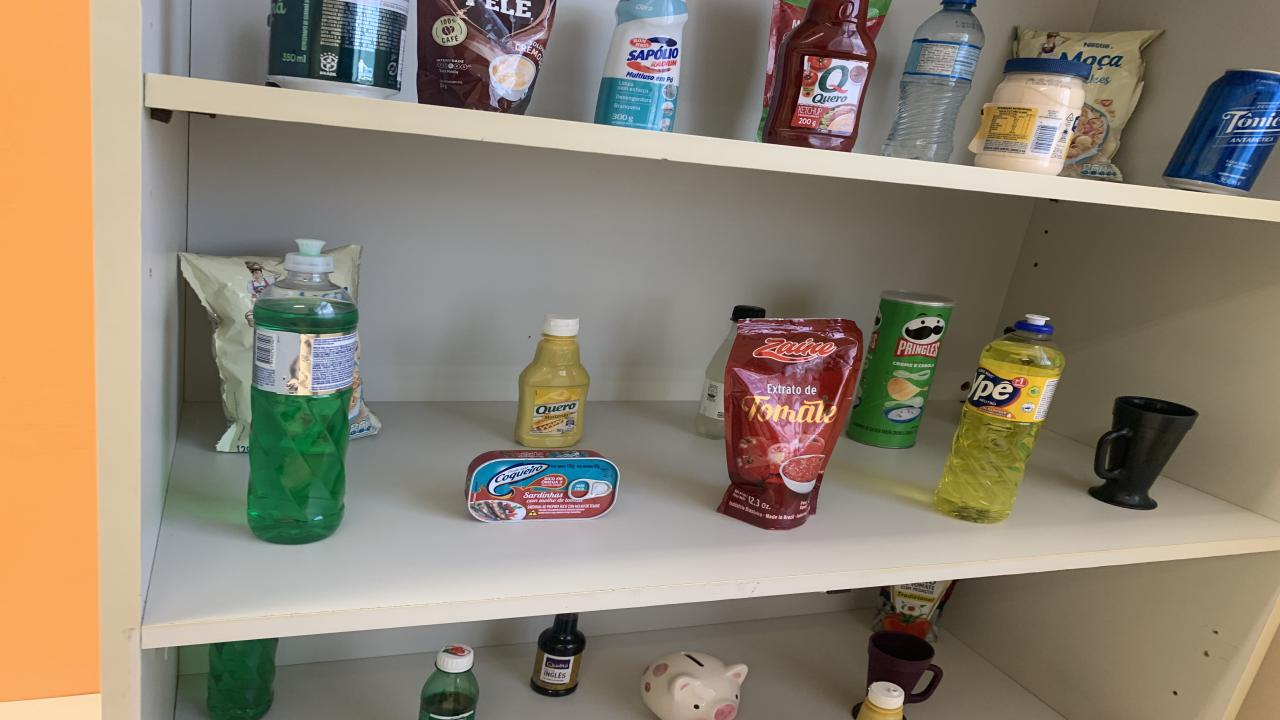Cleaner-Cleanup_Items: (595, 0, 688, 131)
Coffee-Pantry_Items: (418, 0, 555, 114)
Detergent-Cleanup_Items: (248, 238, 358, 544), (935, 321, 1065, 523), (208, 638, 278, 720)
English_Sauce-Pantry_Items: (530, 613, 585, 698)
Flakes-Snacks: (1015, 28, 1162, 182), (178, 253, 285, 452), (325, 246, 362, 300), (350, 377, 380, 439)
Guarana-Drinks: (418, 645, 480, 720)
Guarana_Can-Drinks: (268, 0, 410, 98)
Ketchup-Pantry_Items: (248, 270, 358, 544), (762, 0, 878, 152)
Mayonnaise-Pantry_Items: (970, 56, 1092, 174)
Mustard-Pantry_Items: (515, 315, 590, 448), (855, 682, 905, 720)
Pig_Safe-Miscellaneous: (640, 651, 748, 720)
Pringles-Snacks: (848, 291, 955, 448)
Soda-Drinks: (695, 306, 765, 439)
Tomato_Sauce-Pantry_Items: (718, 319, 862, 531), (758, 0, 810, 141), (872, 579, 955, 643), (865, 0, 892, 39)
Tonic-Drinks: (1162, 69, 1280, 195)
Tuna_Can-Pantry_Items: (465, 450, 620, 523)
Water_Bottle-Drinks: (882, 0, 985, 163)
